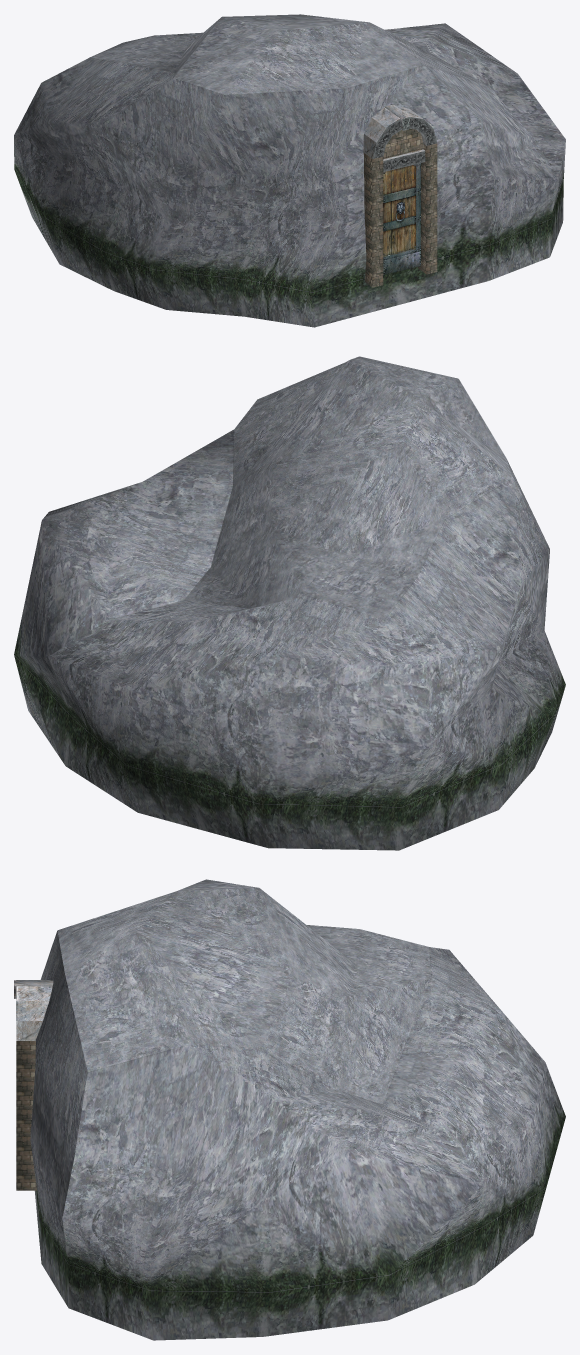
Rendered from stonepile.glb.
3 views of the same model, one above another, from view 1: azimuth 30°, elevation 25°; view 2: azimuth 150°, elevation 25°; view 3: azimuth 270°, elevation 25° (orthographic). The views are drawn at different scales.
Visible parts, largest first — view 1: stonepile; view 2: stonepile; view 3: stonepile.
Boxes of the visible parts, <box> form: stonepile: <box>14,14,565,327</box>; stonepile: <box>14,356,565,850</box>; stonepile: <box>14,879,565,1340</box>.
Size of the model in its own units: 9.92 by 5.71 by 9.52.
Materials: 7 (7 with a texture image).
